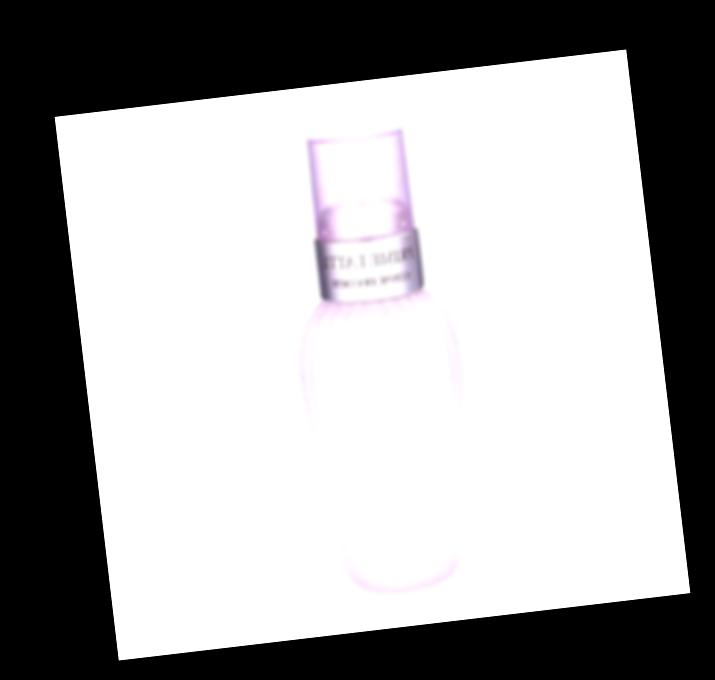cosmetic: (277, 119, 475, 604)
